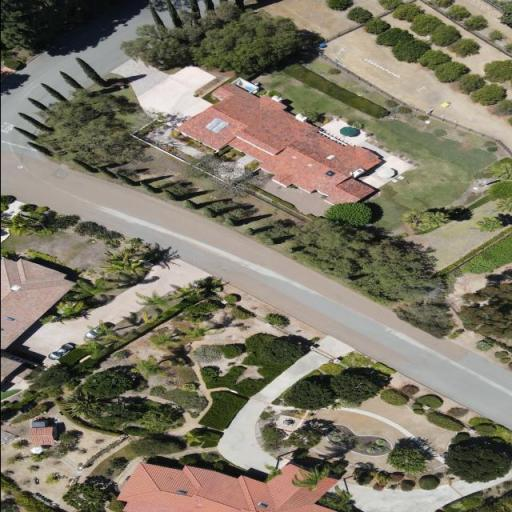solar-panel: (204, 118, 228, 133)
